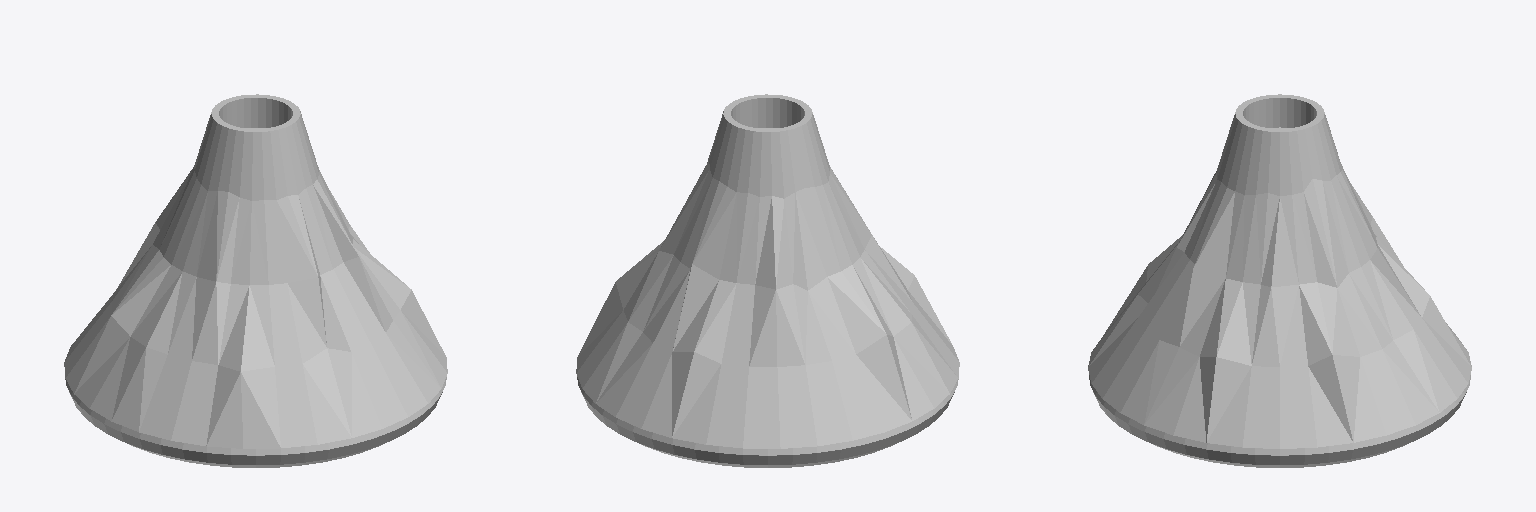
The model's file is NewVolcano.obj.
The picture shows the model from 3 angles: view 1: azimuth 30°, elevation 25°; view 2: azimuth 150°, elevation 25°; view 3: azimuth 270°, elevation 25°; orthographic projection.
Parts seen in each view (by area): view 1: Circle, Torus.002; view 2: Circle, Torus.002; view 3: Circle, Torus.002.
Part boxes in pixels (x1,y1,x2,y2): Circle: (64,94,447,448); Torus.002: (65,377,446,467); Circle: (576,94,959,448); Torus.002: (577,377,958,467); Circle: (1088,94,1471,448); Torus.002: (1089,375,1470,467).
Bounding box in the file's own units: 11.69 × 9.57 × 11.69.